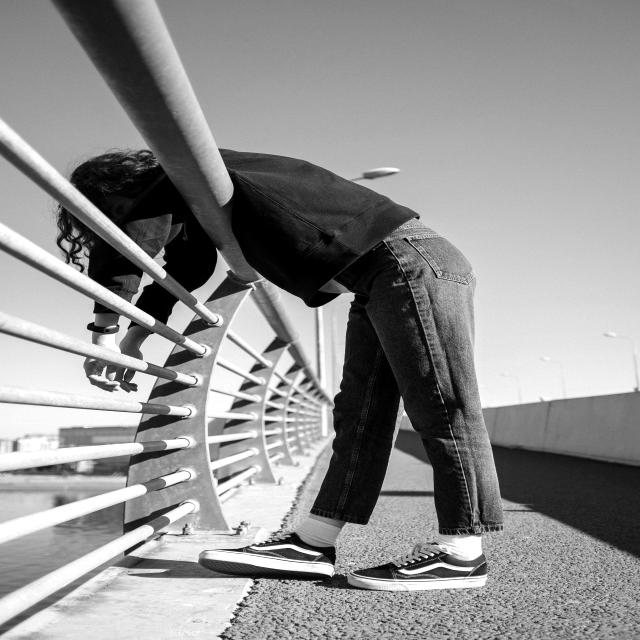No-Boots: (192, 530, 340, 588), (345, 545, 505, 595)
